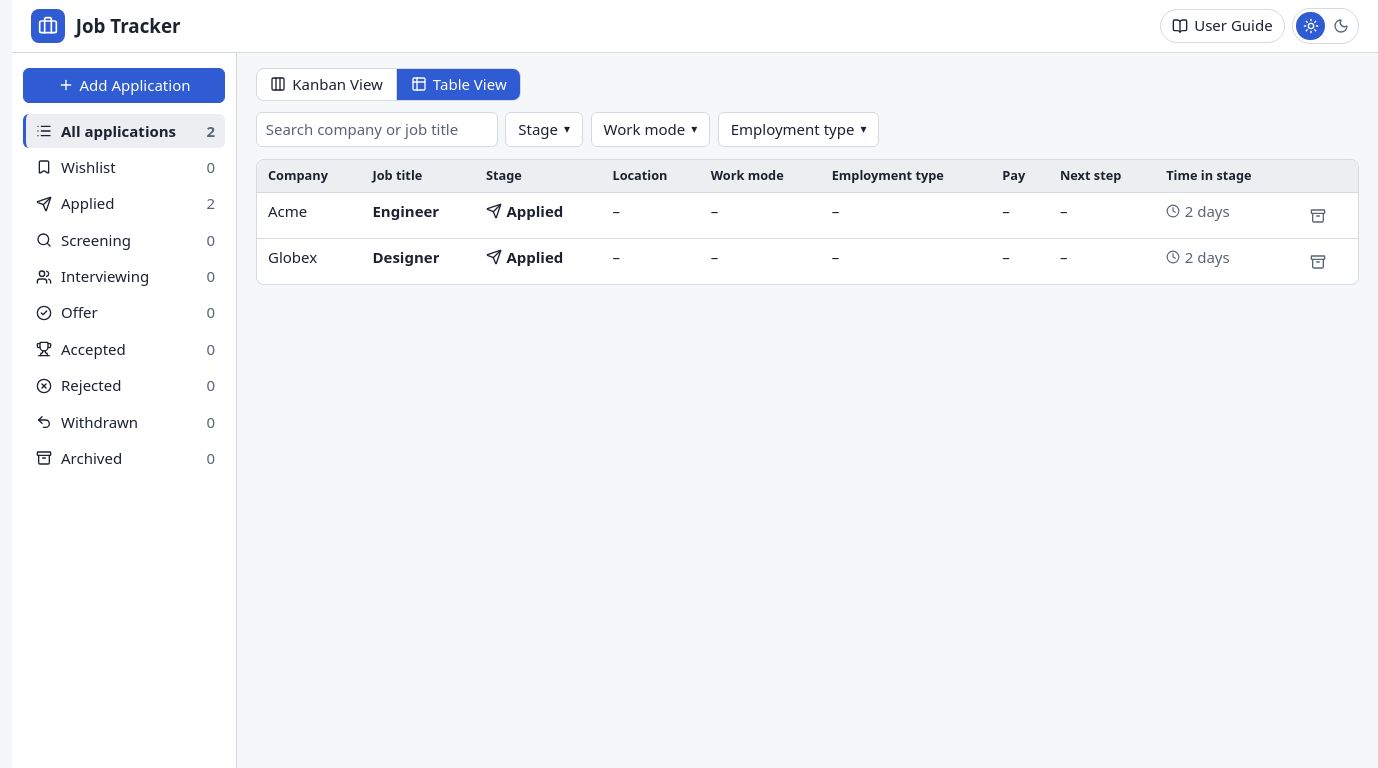
Scenario: archiving and restoring from the table (spec 017, AC-2, AC-5) › archives a row without opening the page, and the row leaves the table
Click the button named "Archive: Engineer at Acme" at x=1318, y=216, box left=1303, top=201, right=1333, bottom=231
(page scrolled)
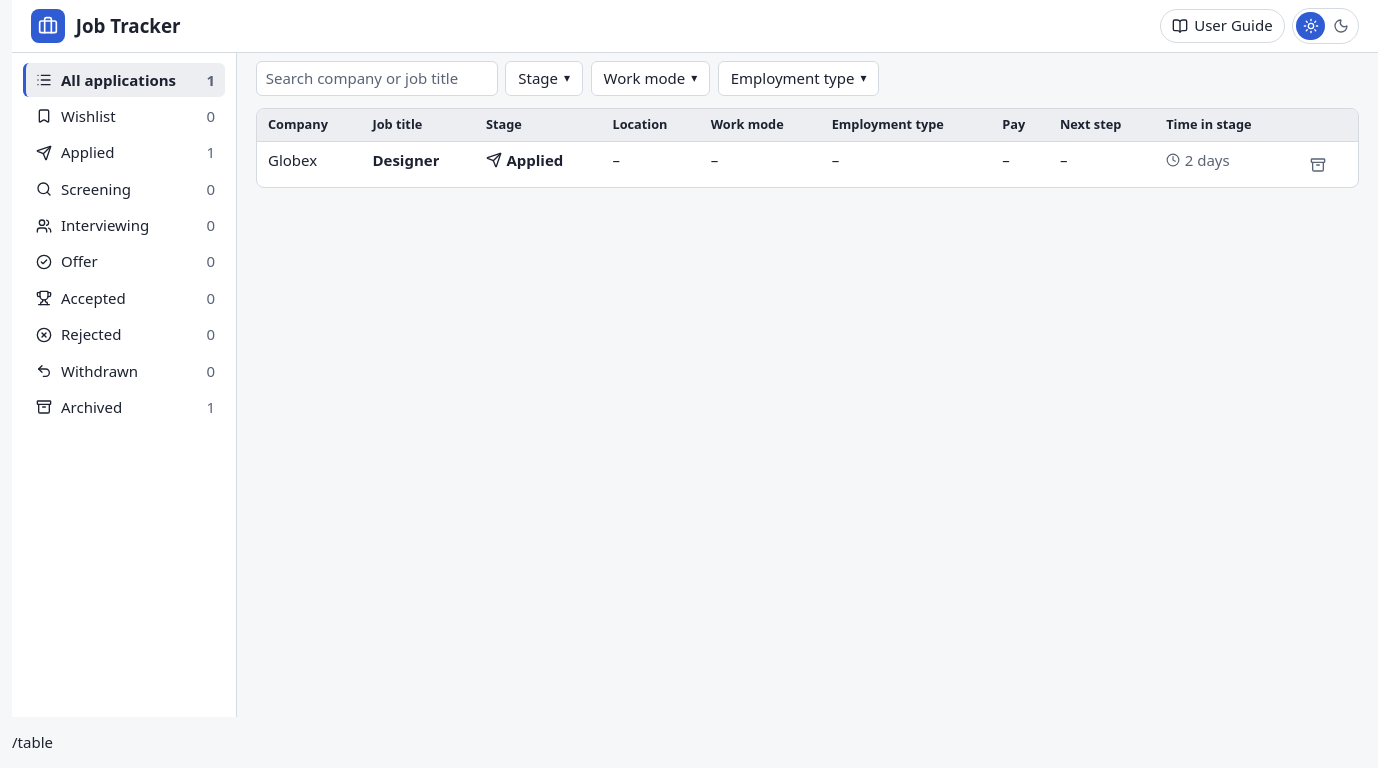
Expected: the text "Designer" is shown, left=372, top=150, right=440, bottom=171
Expected: the button "Engineer" is gone
